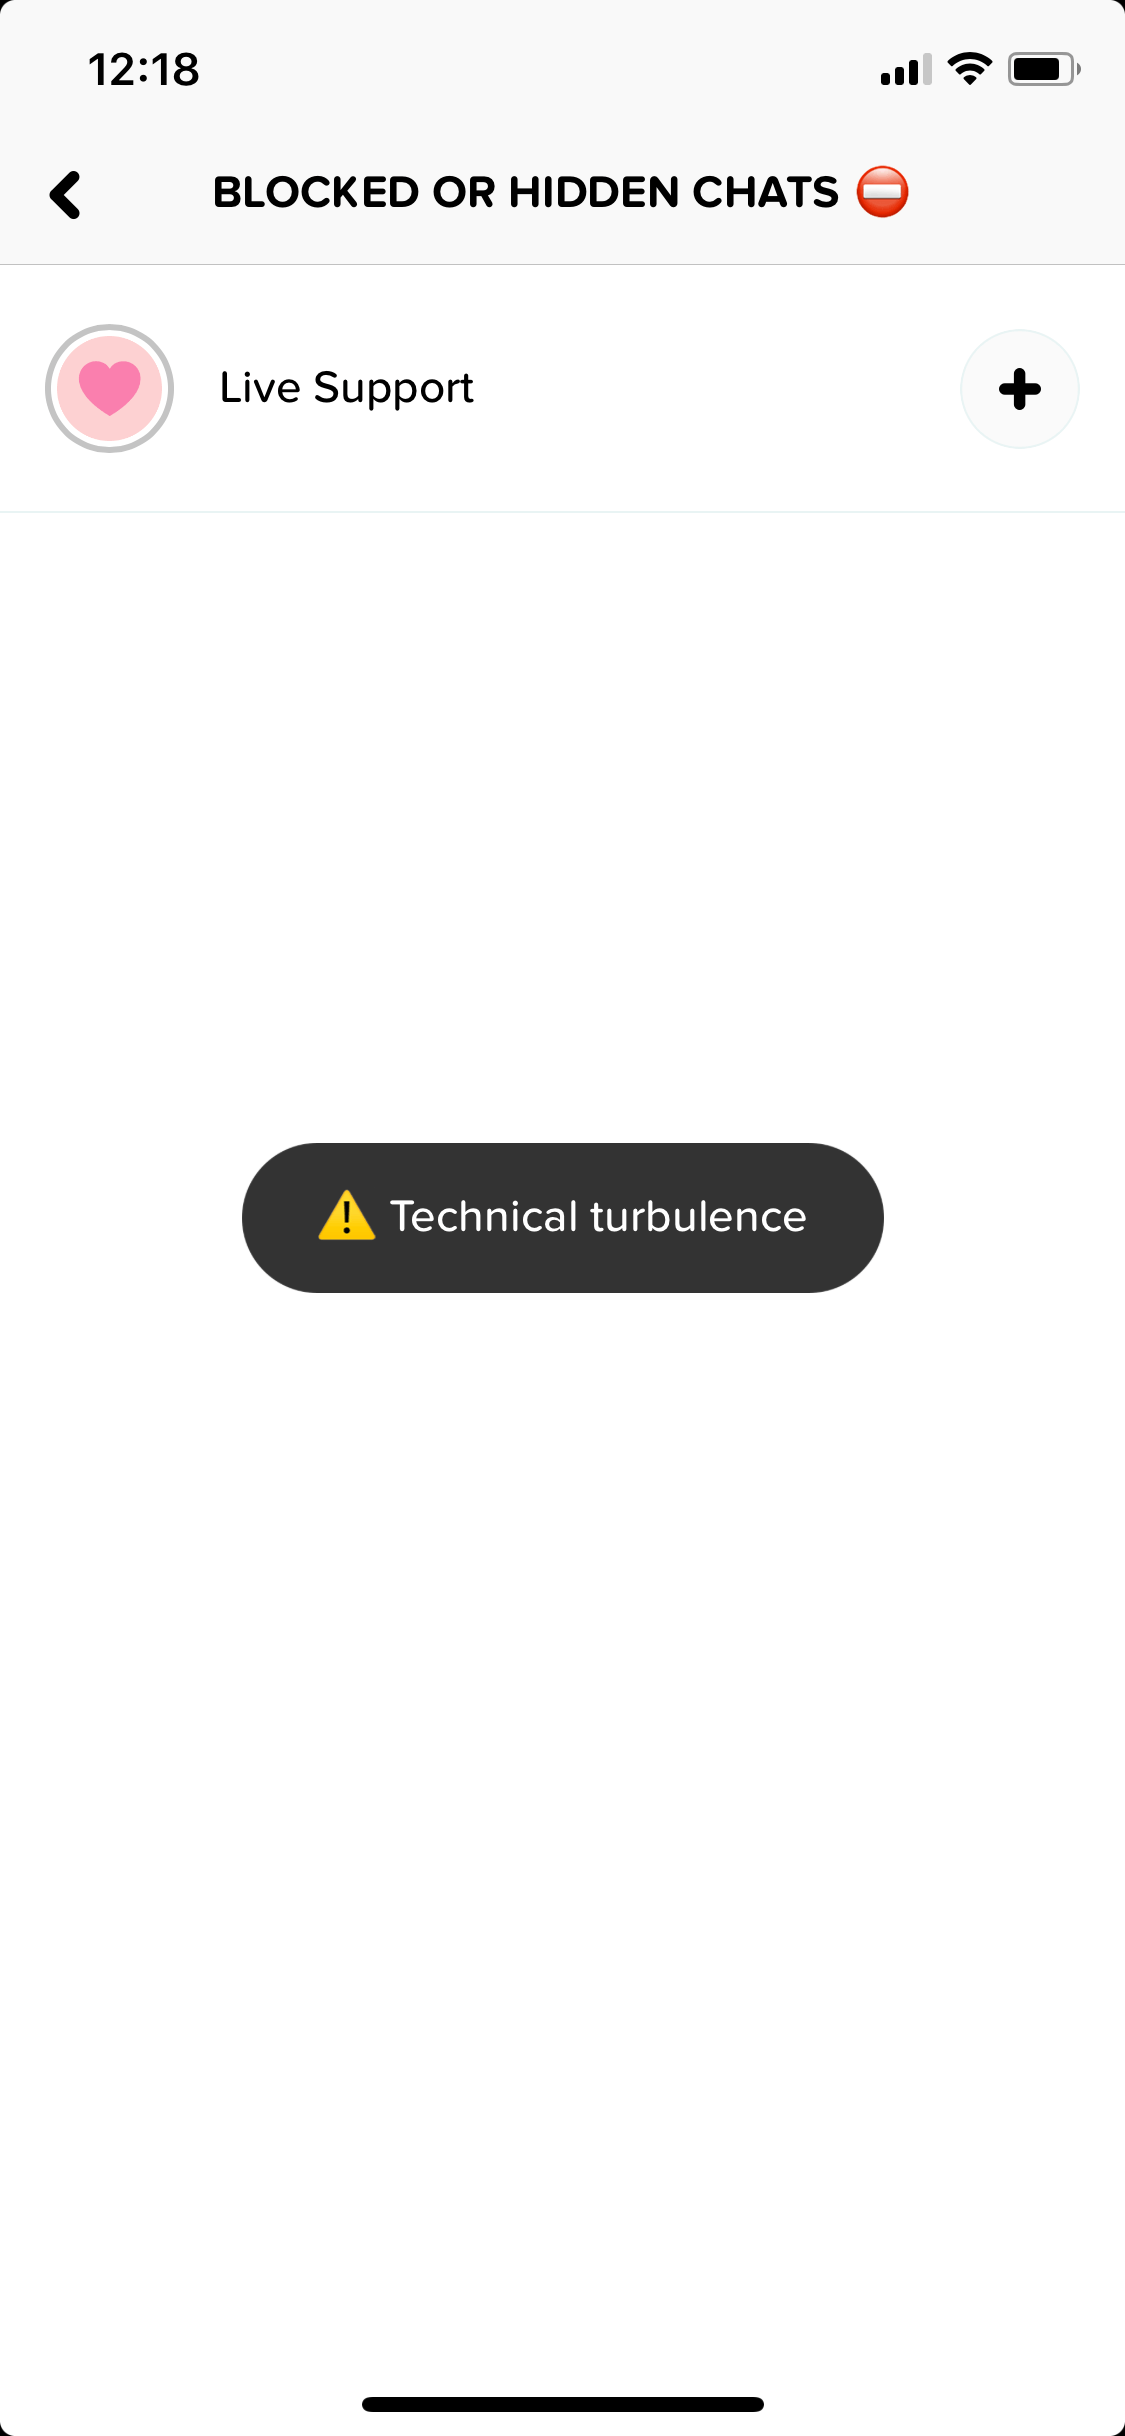Buttons: (954, 325, 1095, 455), (6, 124, 124, 252)
